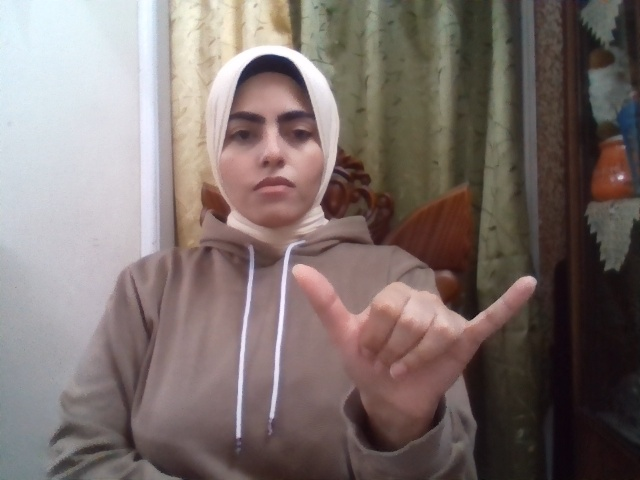Y: (292, 264, 537, 418)
